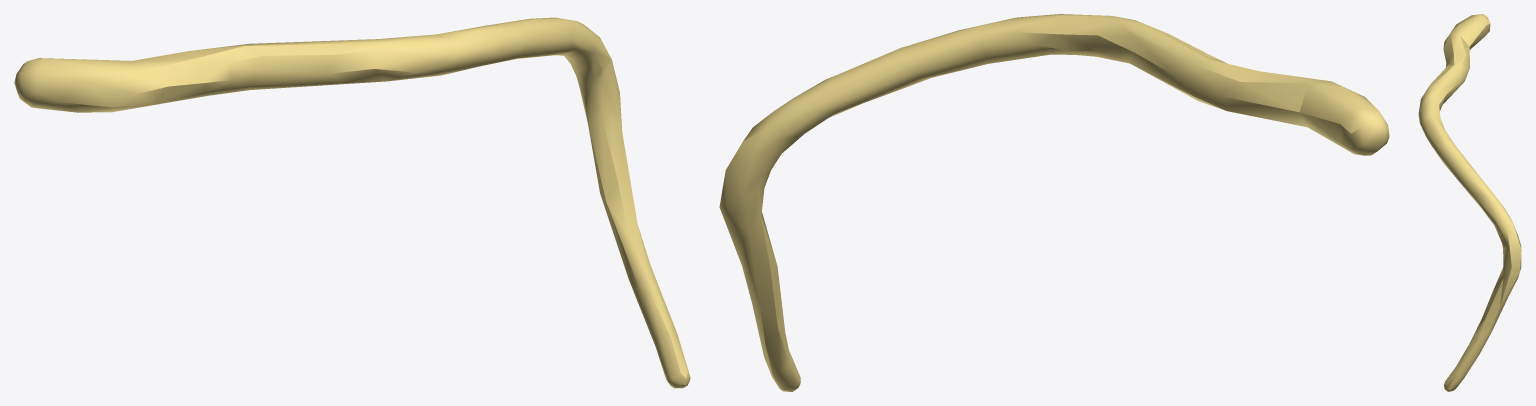
The model's file is fma52715_fj4020.glb.
The picture shows the model from 3 angles, left to right: view 1: azimuth 30°, elevation 25°; view 2: azimuth 150°, elevation 25°; view 3: azimuth 270°, elevation 25°; orthographic projection. The views are drawn at different scales.
Parts seen in each view (by area): view 1: FMA52715_FJ4020; view 2: FMA52715_FJ4020; view 3: FMA52715_FJ4020.
Boxes of the visible parts, x1,y1,x2,y2 form: FMA52715_FJ4020: (14,17,690,388); FMA52715_FJ4020: (719,14,1389,391); FMA52715_FJ4020: (1418,14,1521,391).
Size of the model in its own units: 0.00826 by 0.00559 by 0.00229.
